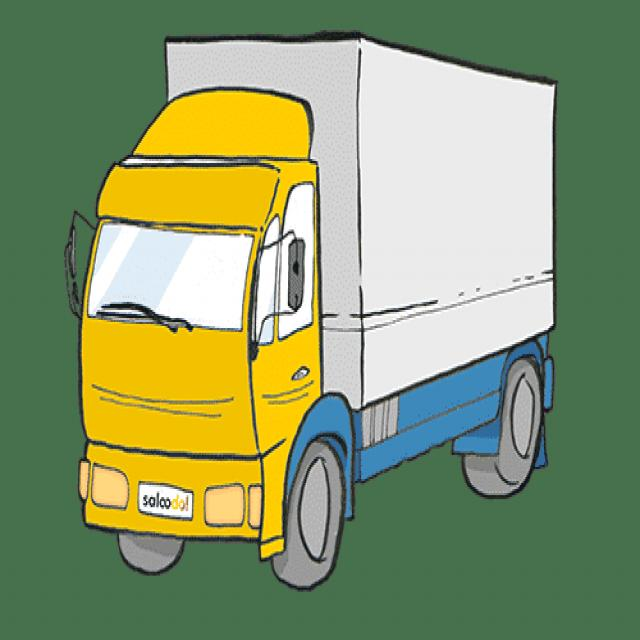truck: (40, 6, 583, 616)
